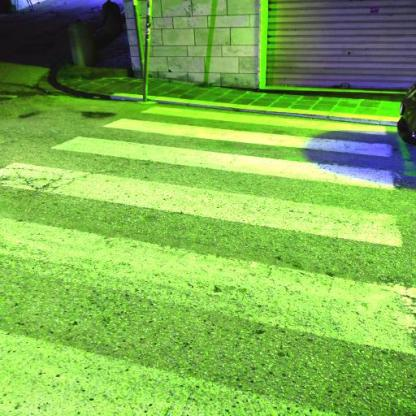crosswalk: (1, 132, 410, 250)
